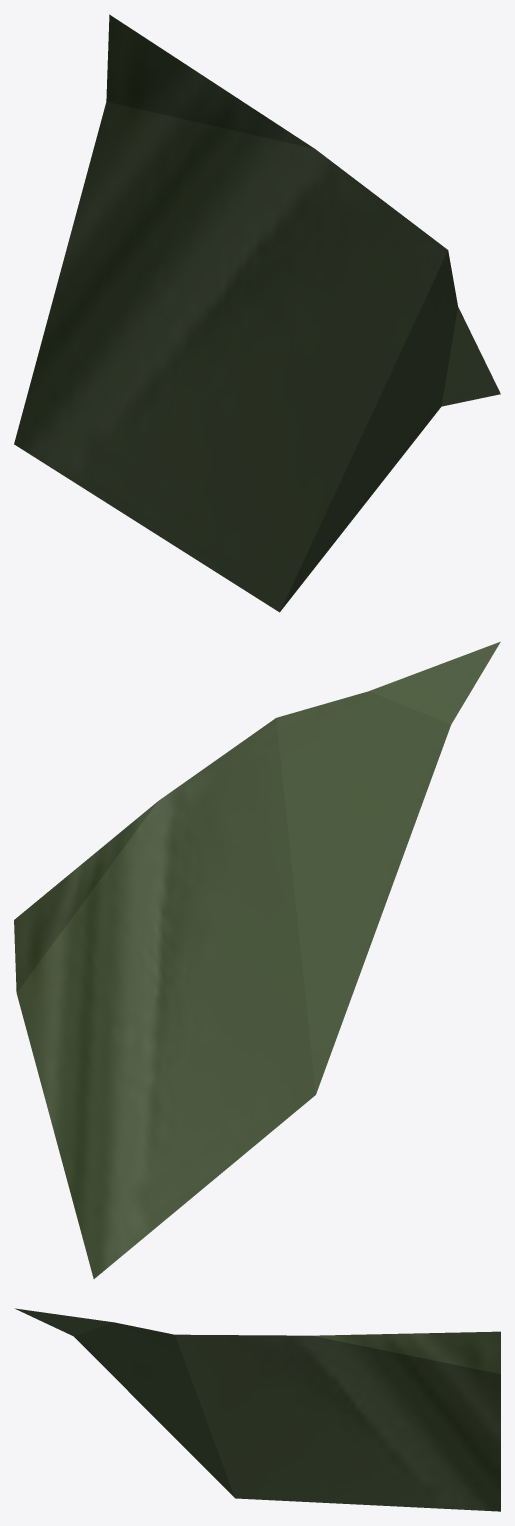
3 views of the same model, one above another, from view 1: azimuth 30°, elevation 25°; view 2: azimuth 150°, elevation 25°; view 3: azimuth 270°, elevation 25° (orthographic). The views are drawn at different scales.
Size of the model in its own units: 0.1304 by 0.4526 by 0.9826.
1 material, 1 textured.
